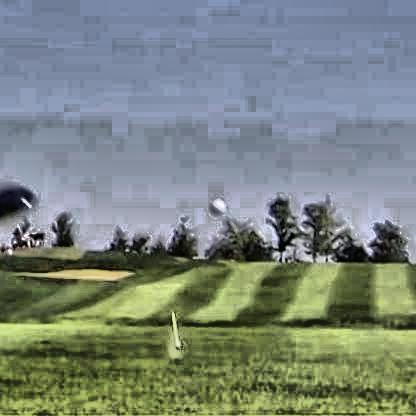golfball: (206, 195, 223, 213)
